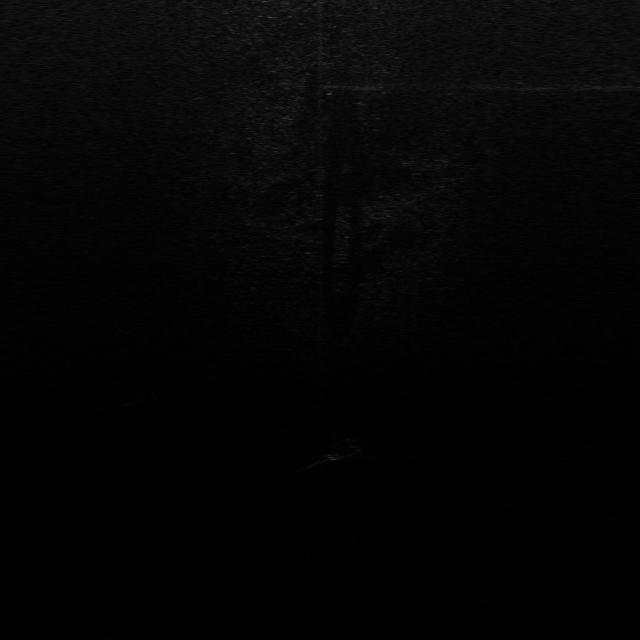ball: (138, 376, 168, 402)
circle cage: (116, 318, 140, 336)
tyre: (324, 434, 360, 462)
